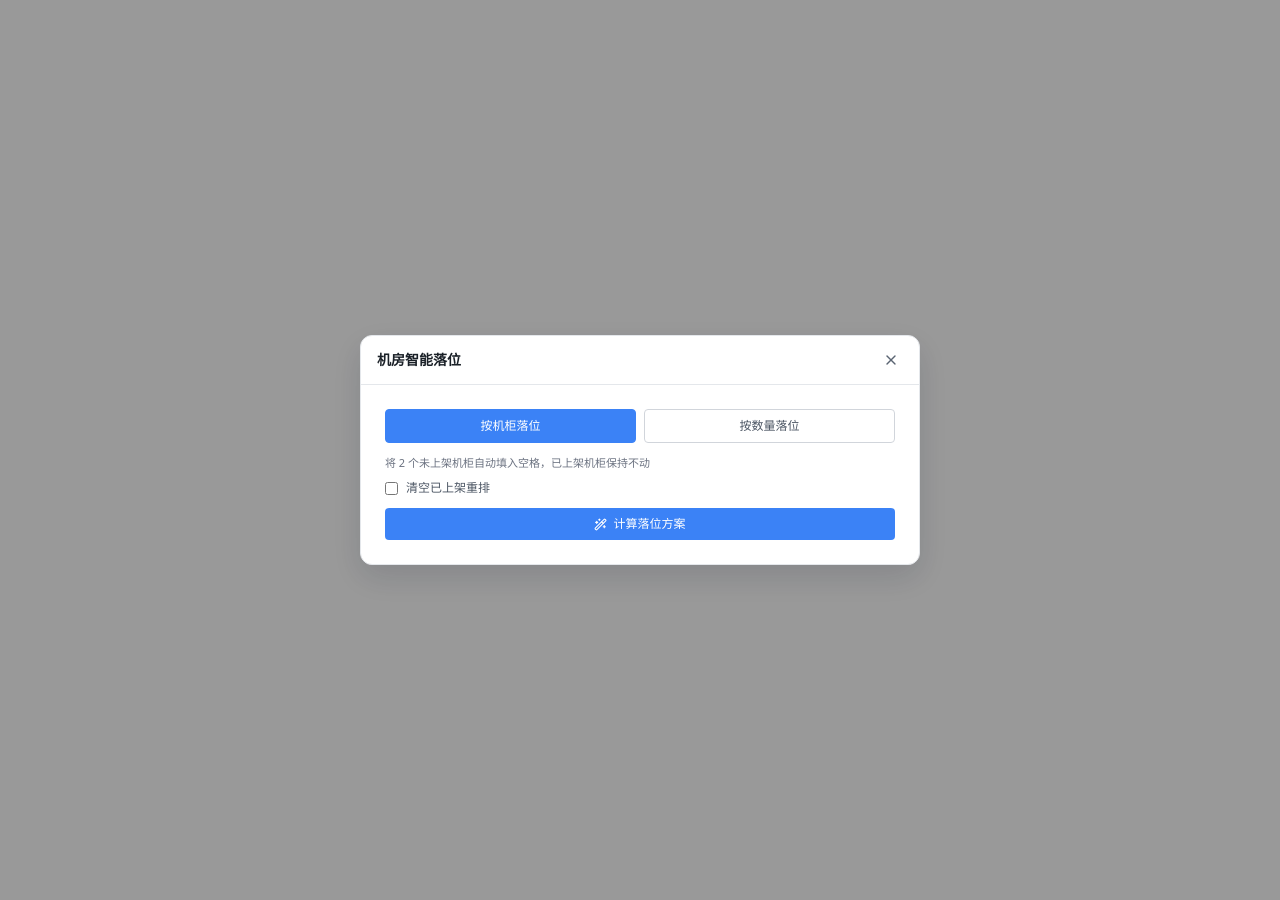
Test: RoomOptimizeModal › 按数量落位：填写数量 → 计算 → 展示评分与未放置
Click the button "按数量落位" at point(770, 426), box [644,409,895,443]
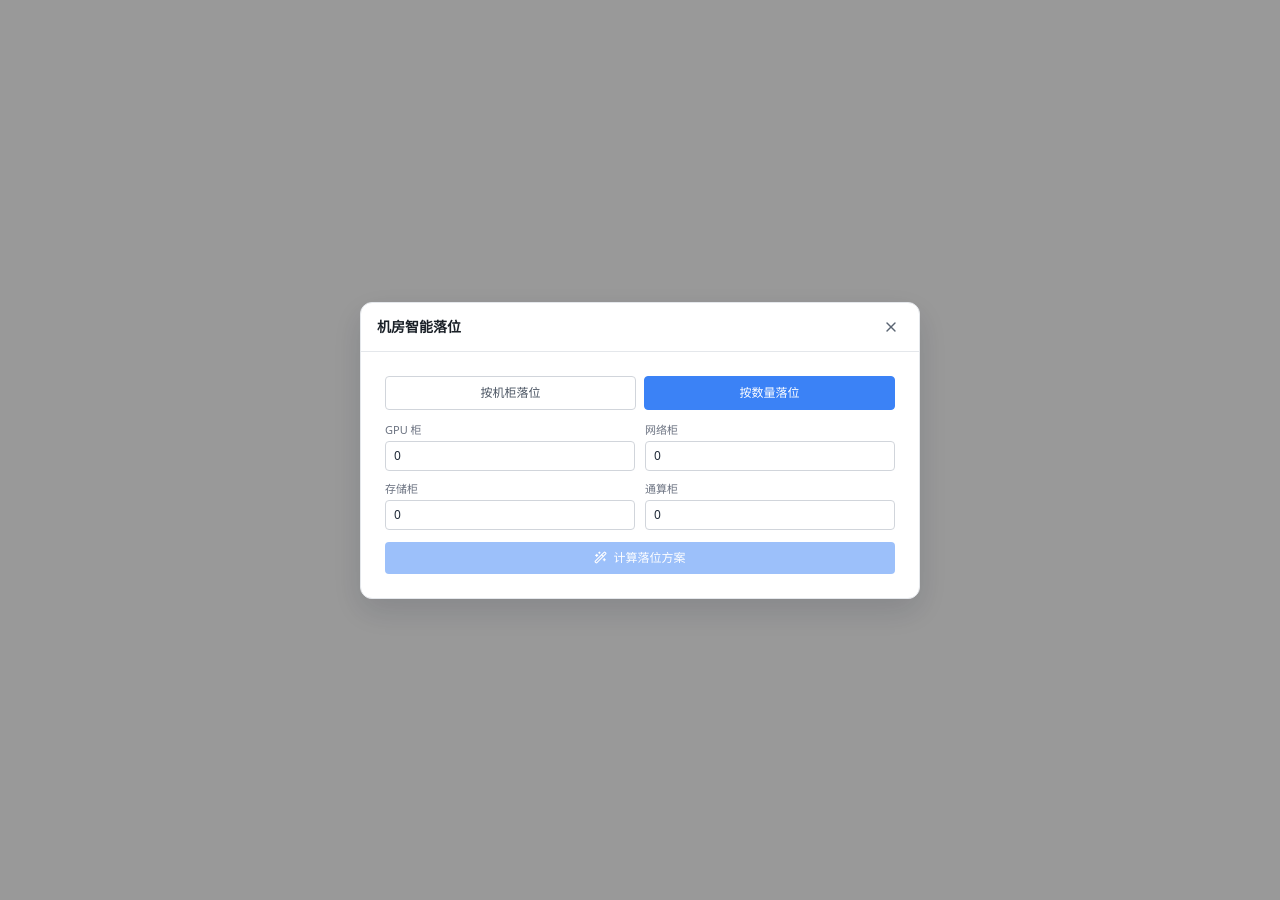
Replace the text in the number field labelled "GPU 柜" with "1" at point(510, 456), box [385,440,635,470]
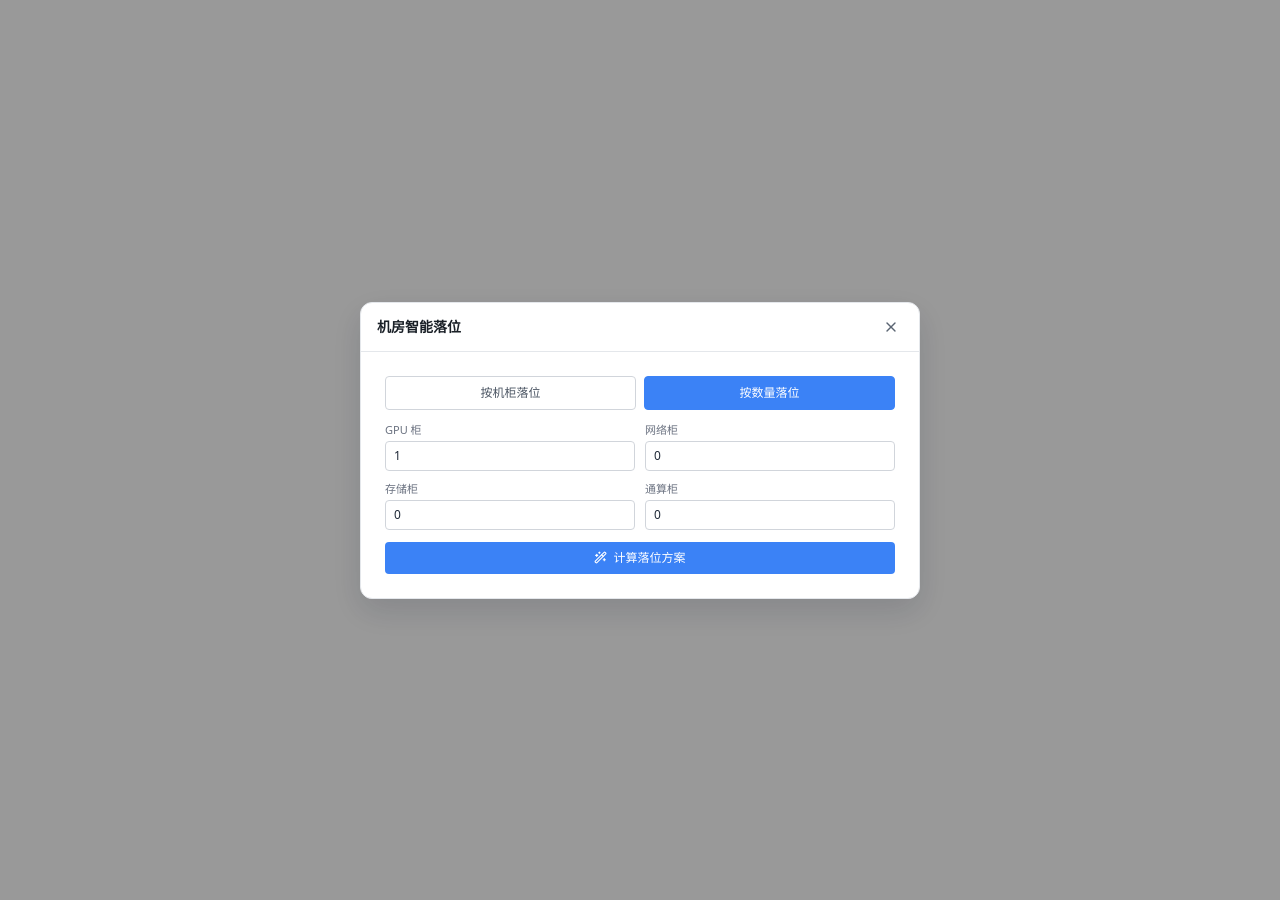
Replace the text in the number field labelled "存储柜" with "1" at point(510, 514), box [385,500,635,530]
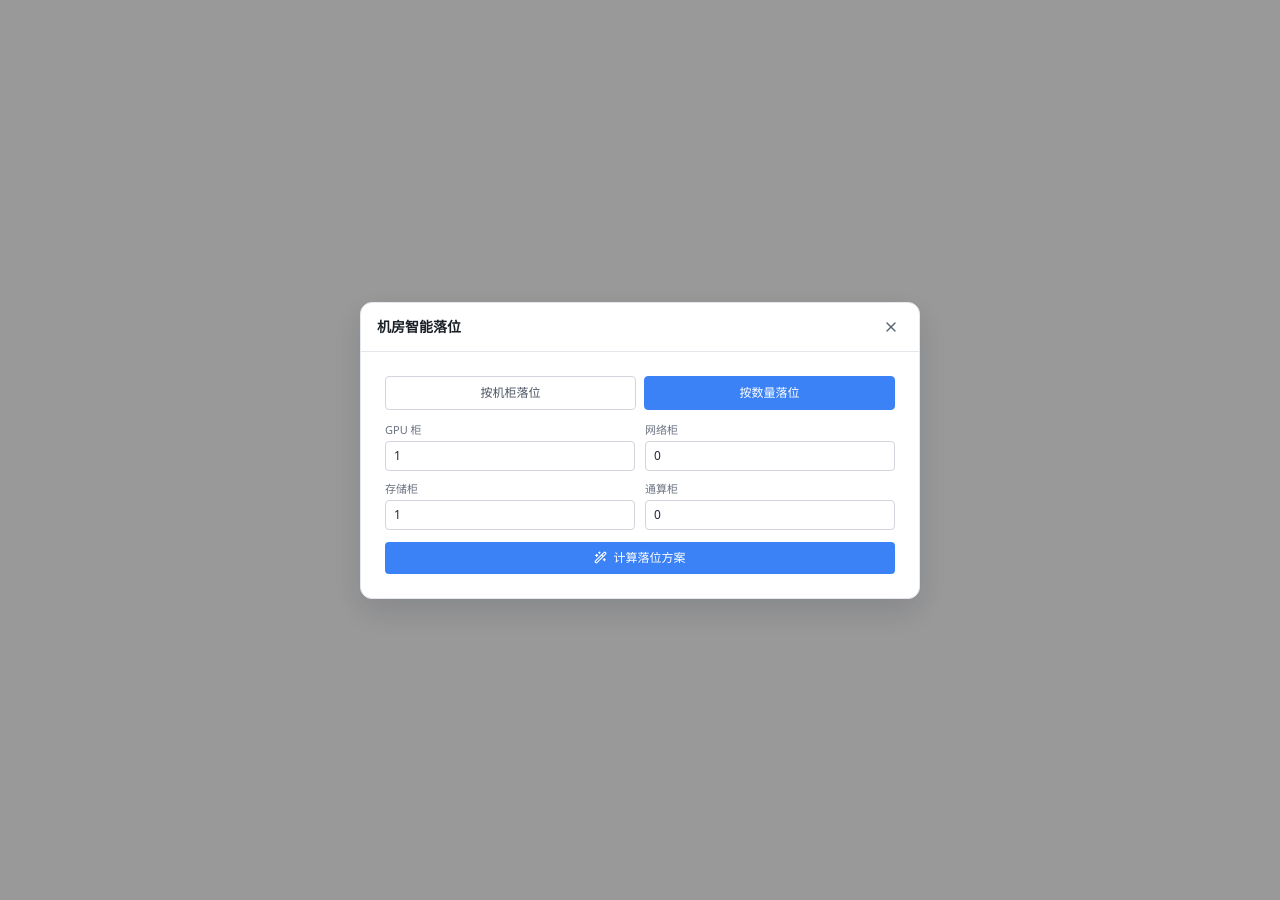
Click the button "计算落位方案" at point(640, 558), box [385,542,895,574]
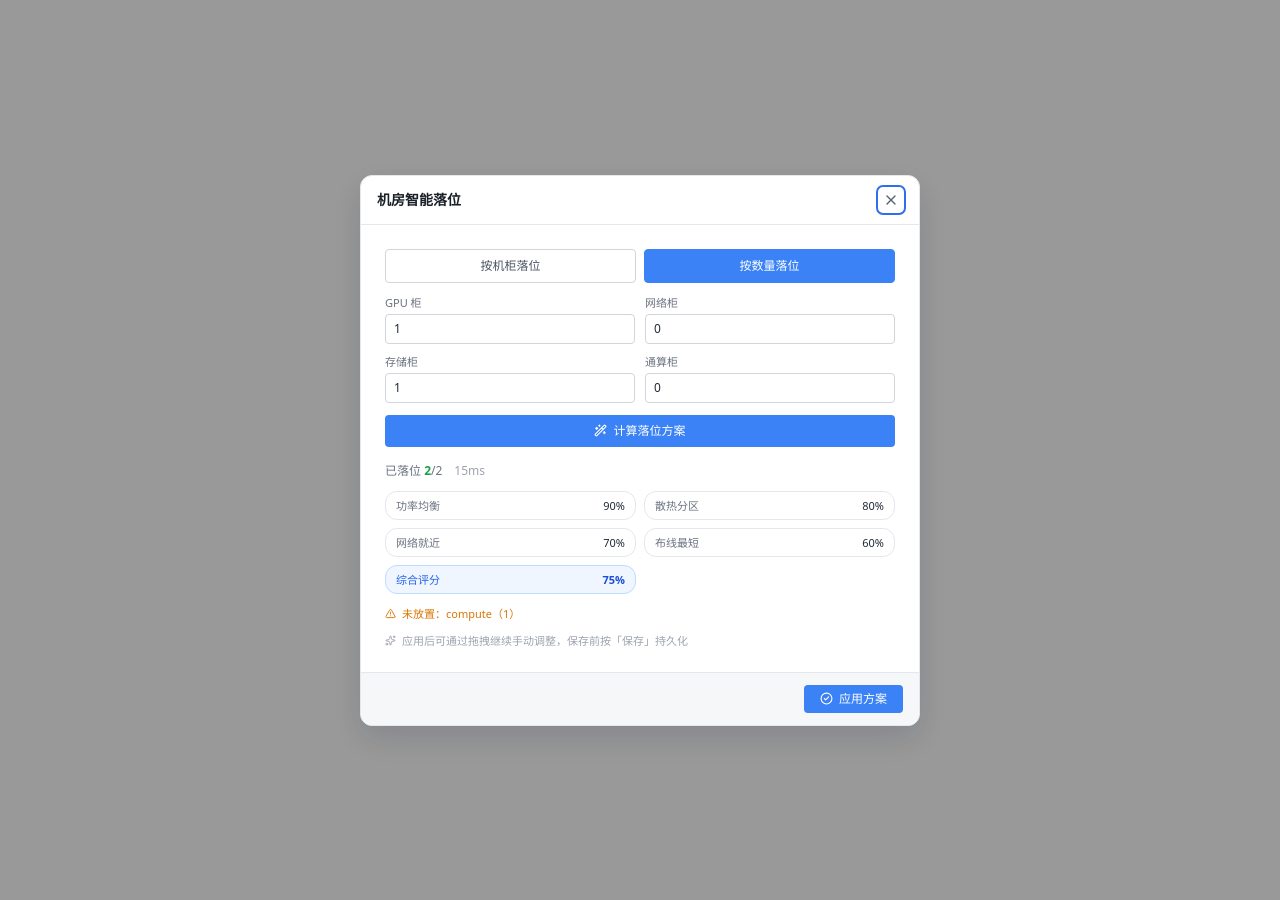
Now the text "已落位 2/2" is shown, box [385,462,442,478]
Now the text "功率均衡" is shown, box [396,498,440,512]
Now the text "综合评分" is shown, box [396,572,440,586]
